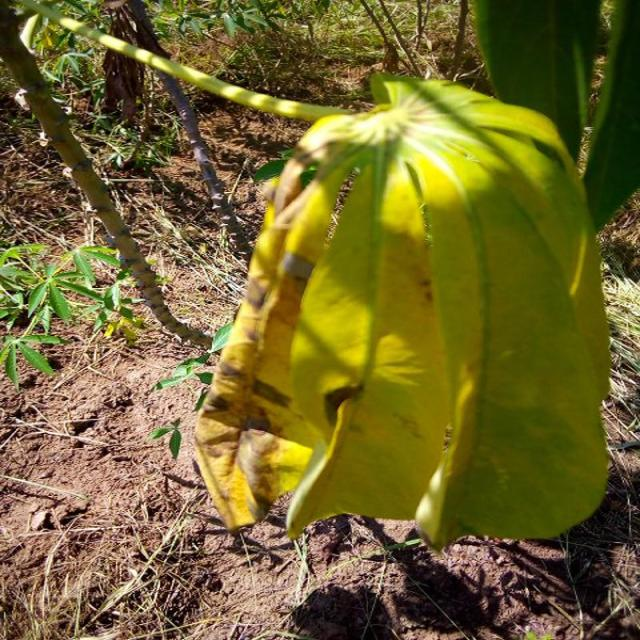cassava leaf: (193, 70, 613, 552)
